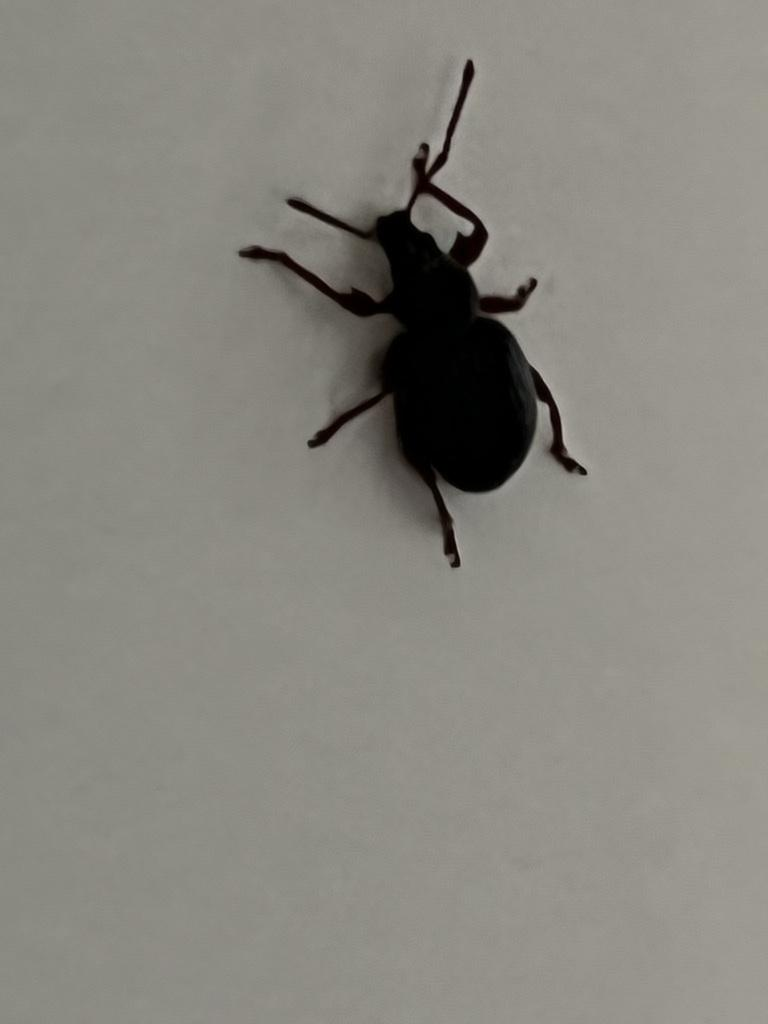weevils: (144, 0, 717, 629)
